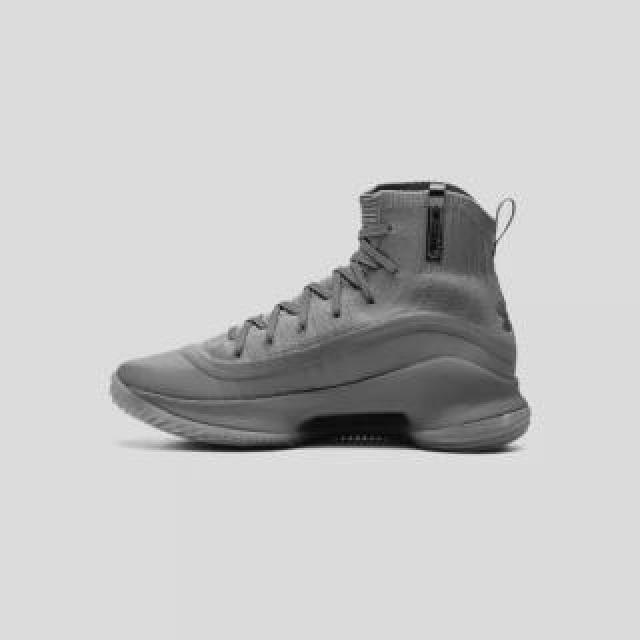shoe: (110, 180, 532, 452)
